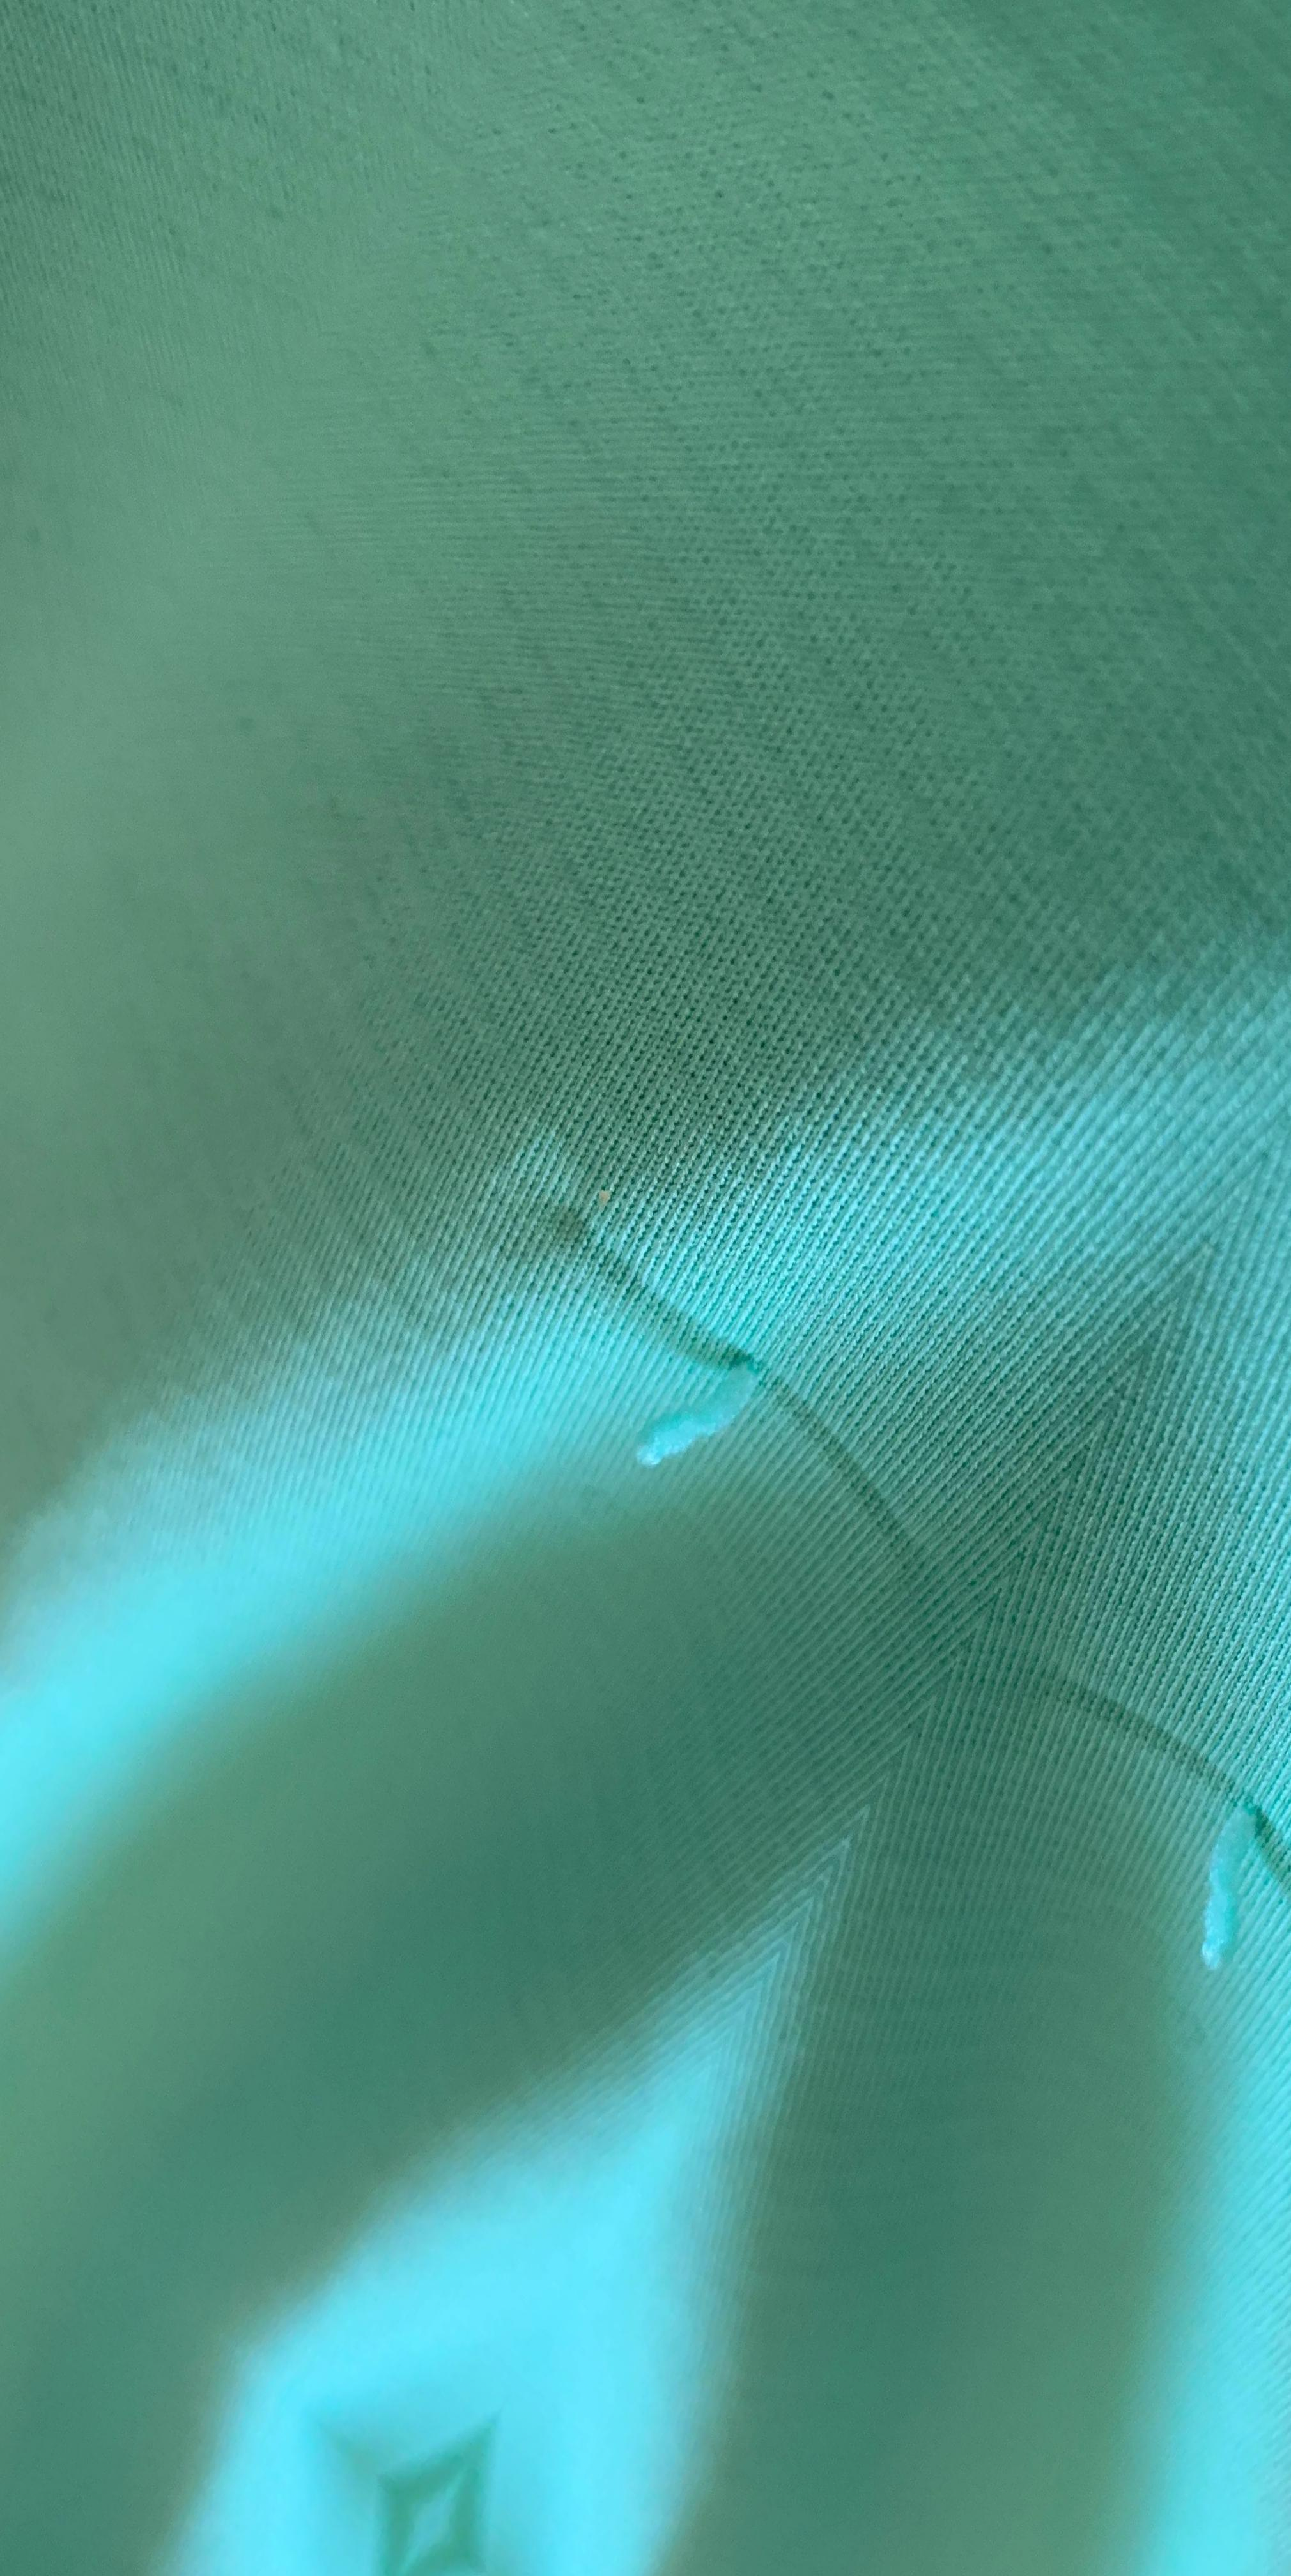snag: (581, 1261, 799, 1536), (1141, 1702, 1275, 1997)
